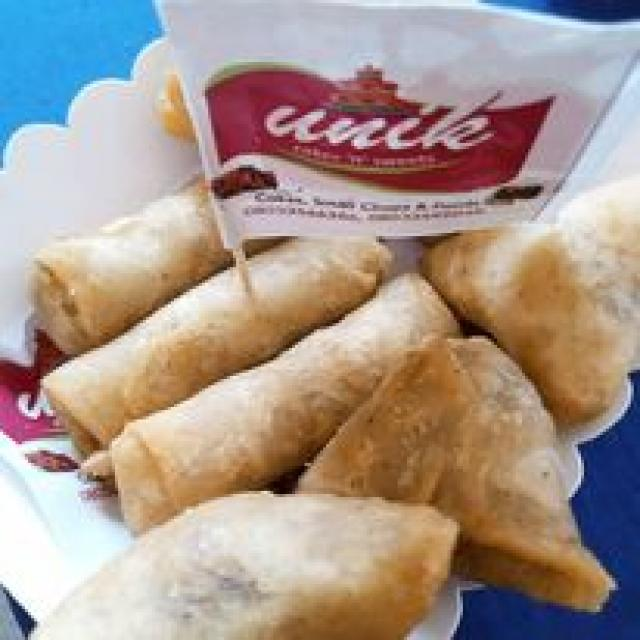Samosa: (422, 202, 628, 575), (50, 500, 422, 634)
Spring Rolls: (34, 171, 407, 481)
